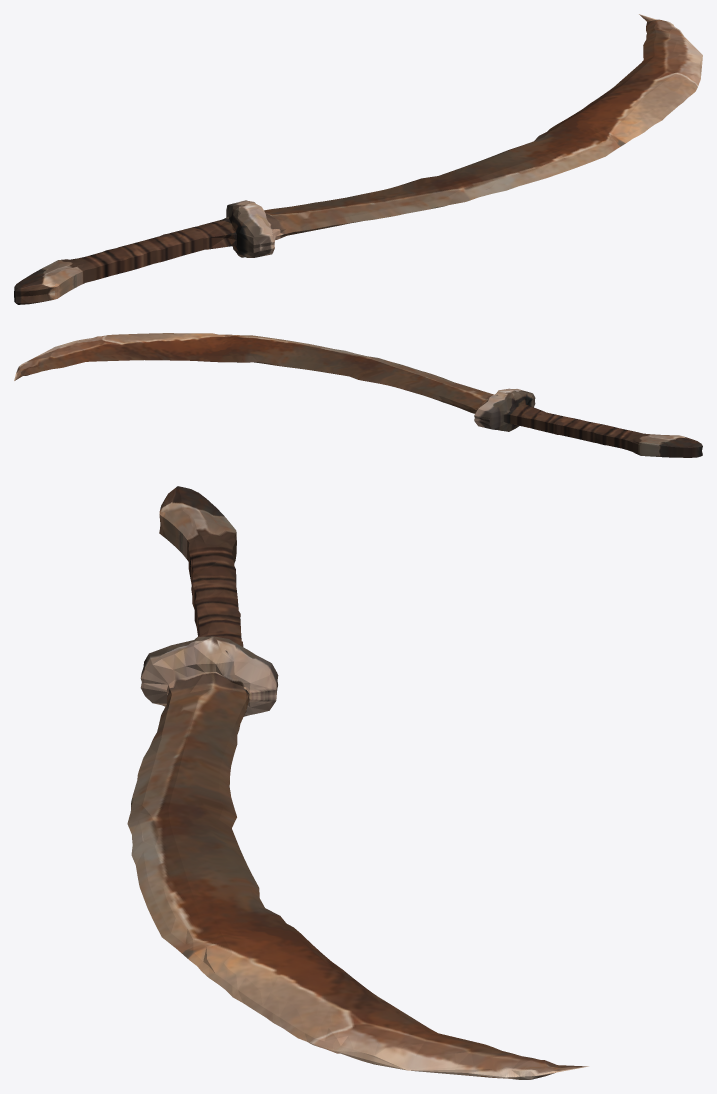
File: newbie_saber_01.fbx
3 views of the same model, one above another, from view 1: azimuth 30°, elevation 25°; view 2: azimuth 150°, elevation 25°; view 3: azimuth 270°, elevation 25° (orthographic). The views are drawn at different scales.
Parts seen in each view (by area): view 1: newbie_saber_01; view 2: newbie_saber_01; view 3: newbie_saber_01.
Part boxes in pixels (left/top/right/bottom): newbie_saber_01: left=14, top=14, right=702, bottom=304; newbie_saber_01: left=14, top=333, right=702, bottom=457; newbie_saber_01: left=127, top=486, right=588, bottom=1079.
Size of the model in its own units: 2.65 by 0.1599 by 0.889.
